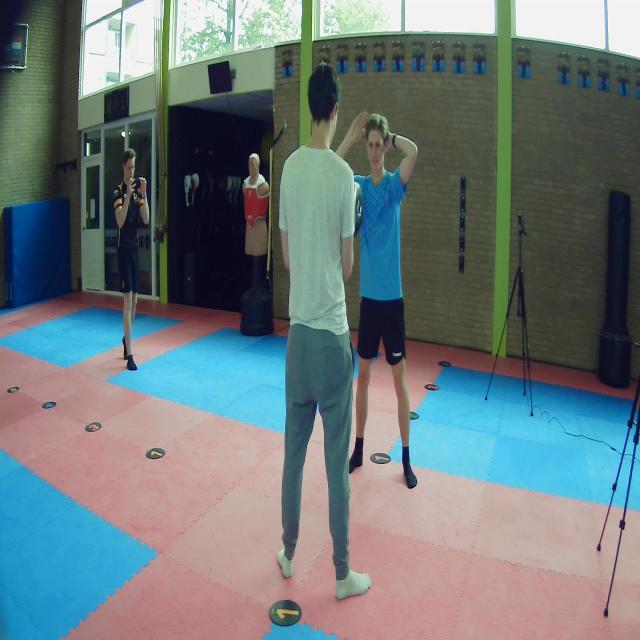paddle: (354, 180, 364, 238)
